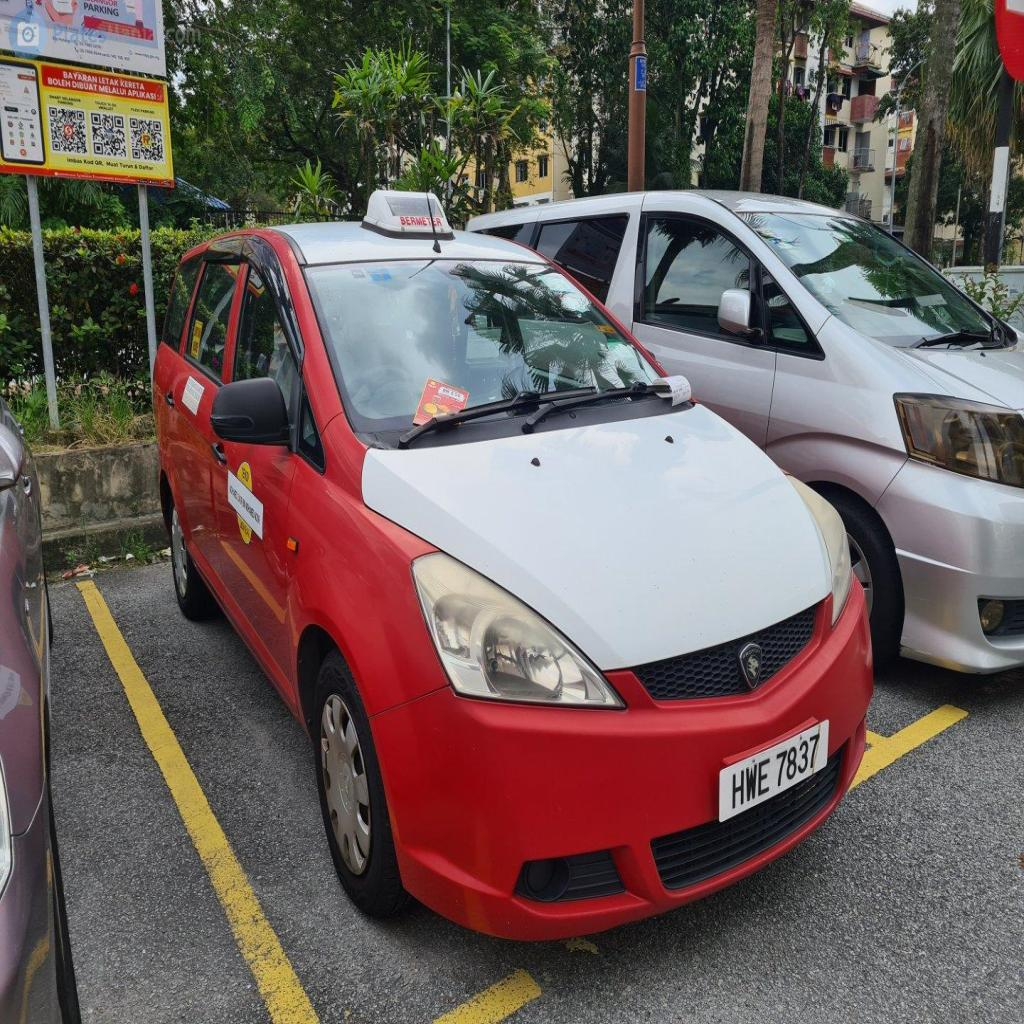car: (155, 192, 872, 936)
car plate: (718, 720, 827, 820)
